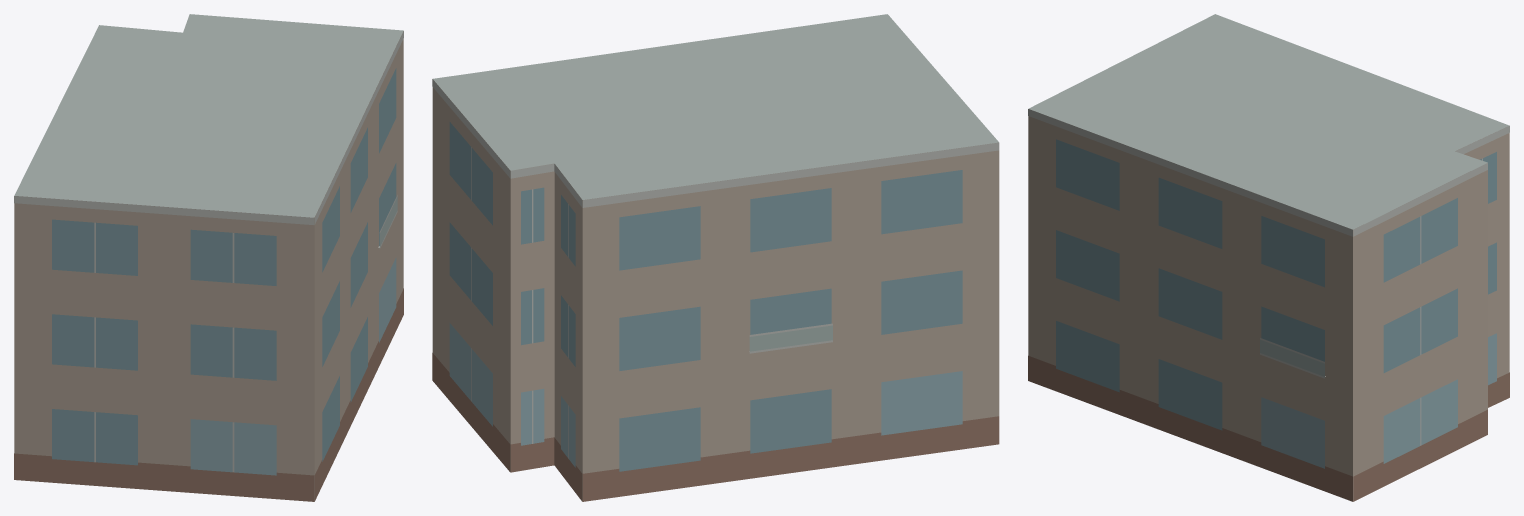
The model's file is survey-upis-32782805.glb.
The picture shows the model from 3 angles, left to right: view 1: azimuth 30°, elevation 25°; view 2: azimuth 150°, elevation 25°; view 3: azimuth 270°, elevation 25°; orthographic projection. The views are drawn at different scales.
Parts seen in each view (by area): view 1: survey-upis-32782805.tmp; view 2: survey-upis-32782805.tmp; view 3: survey-upis-32782805.tmp.
Boxes of the visible parts, bbox=[...] form: survey-upis-32782805.tmp: bbox=[14, 14, 403, 501]; survey-upis-32782805.tmp: bbox=[432, 14, 999, 501]; survey-upis-32782805.tmp: bbox=[1028, 14, 1509, 501].
Size of the model in its own units: 15.82 by 9.3 by 14.92.
